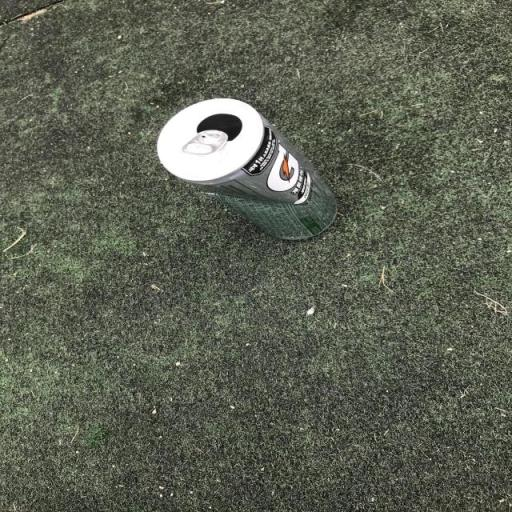metal: (124, 78, 350, 250)
